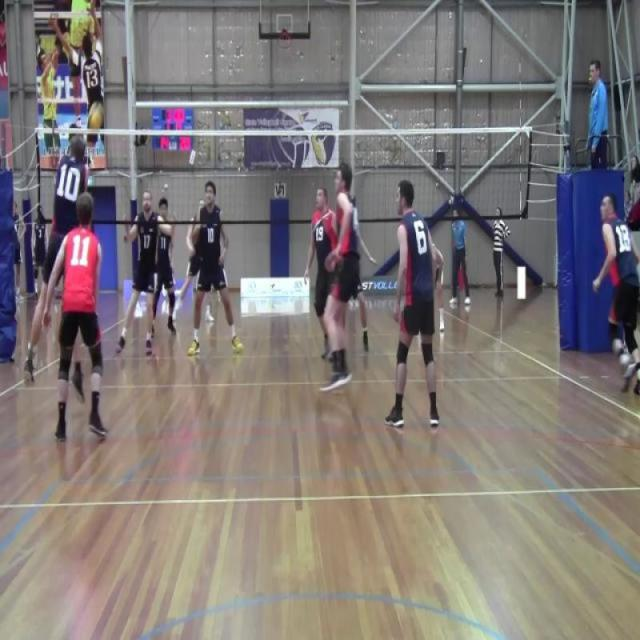volleyball: (86, 98, 105, 130)
